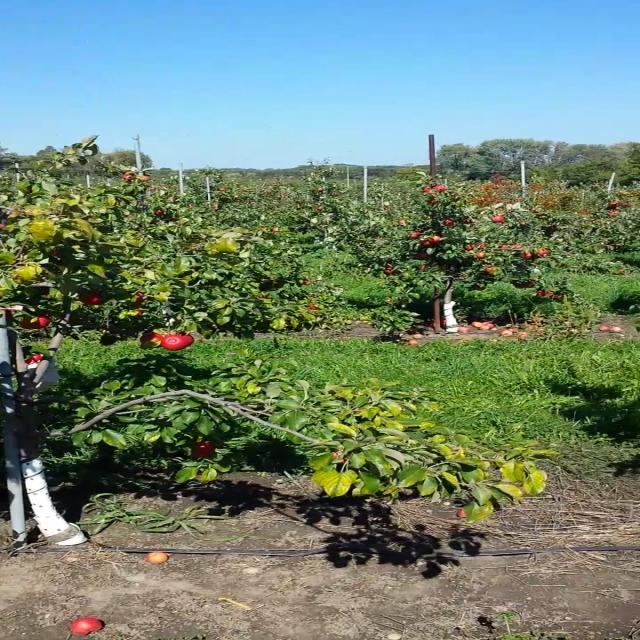apple: (19, 315, 48, 331), (139, 332, 165, 348), (162, 335, 186, 351), (78, 290, 100, 304), (24, 354, 44, 366), (331, 449, 346, 465), (195, 441, 213, 453), (178, 334, 194, 346), (194, 449, 212, 458), (443, 219, 458, 226), (485, 266, 498, 274), (301, 278, 314, 286), (520, 250, 532, 258), (536, 249, 548, 257), (475, 252, 487, 260), (464, 244, 476, 252), (491, 215, 504, 222), (499, 244, 510, 252), (478, 244, 490, 251), (462, 217, 474, 224), (428, 196, 438, 204), (419, 264, 431, 270), (382, 268, 394, 274), (122, 174, 134, 180), (272, 226, 282, 233), (420, 253, 430, 259), (409, 232, 419, 238), (430, 236, 440, 242), (435, 186, 445, 192), (422, 187, 432, 193), (154, 209, 164, 215), (139, 176, 150, 181), (610, 201, 619, 207), (188, 204, 197, 210), (512, 245, 522, 250), (420, 240, 430, 245), (316, 187, 324, 192), (317, 206, 325, 211), (533, 208, 539, 214), (610, 211, 616, 217), (213, 205, 219, 211), (169, 197, 176, 202), (514, 200, 518, 202)
